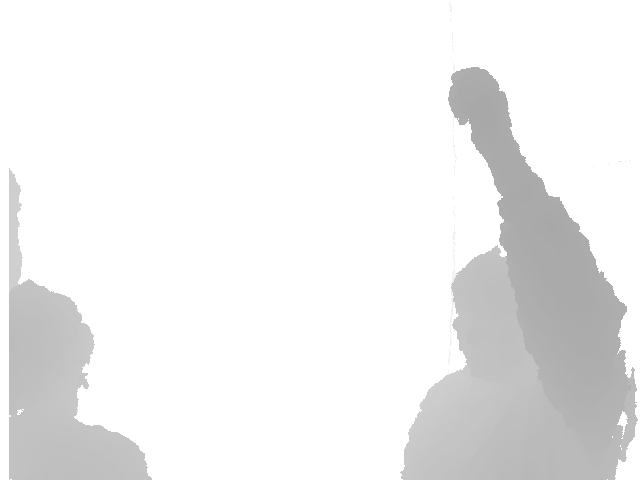hand: (448, 64, 513, 146)
head: (7, 278, 91, 424), (452, 244, 537, 383)
person: (400, 64, 640, 480), (8, 171, 152, 480)
